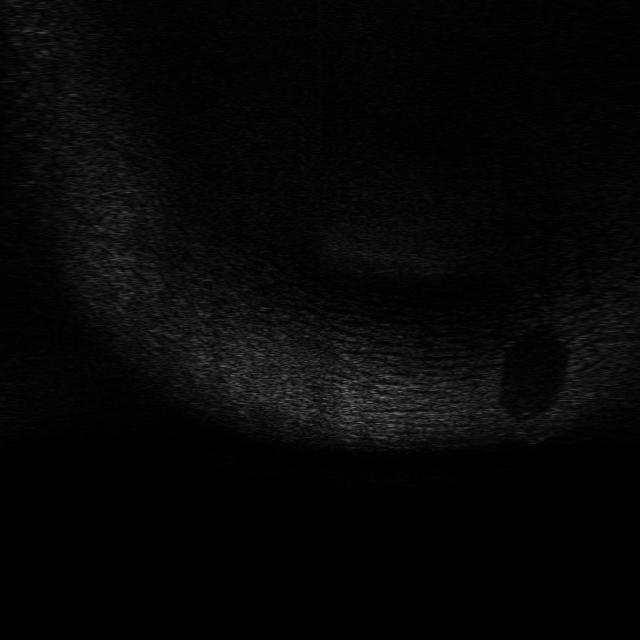cube: (510, 404, 576, 446)
